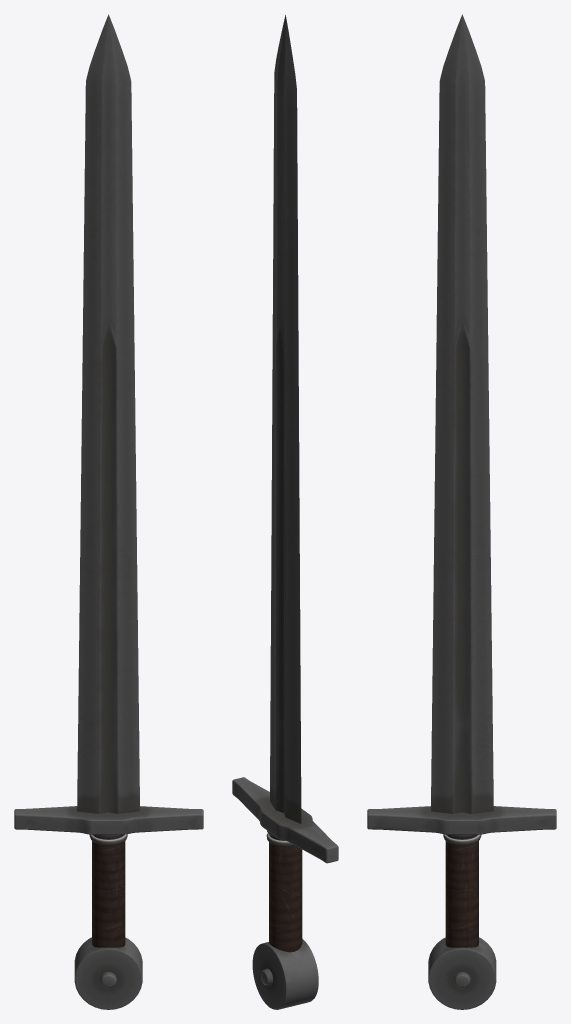
File: sword_08.glb
3 views of the same model, side by side, from view 1: azimuth 90°, elevation 25°; view 2: azimuth 210°, elevation 25°; view 3: azimuth 270°, elevation 25° (orthographic).
Visible parts, largest first — view 1: SWORD_08; view 2: SWORD_08; view 3: SWORD_08.
Boxes of the visible parts, x1,y1,x2,y2 form: SWORD_08: [14, 14, 203, 1009]; SWORD_08: [232, 15, 338, 1009]; SWORD_08: [367, 14, 556, 1009].
Size of the model in its own units: 5.17 by 113 by 19.54.
1 material, 1 textured.
